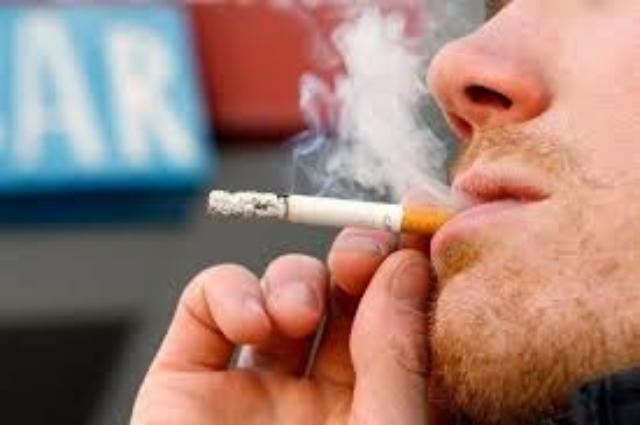Cigarette: (208, 190, 478, 238)
